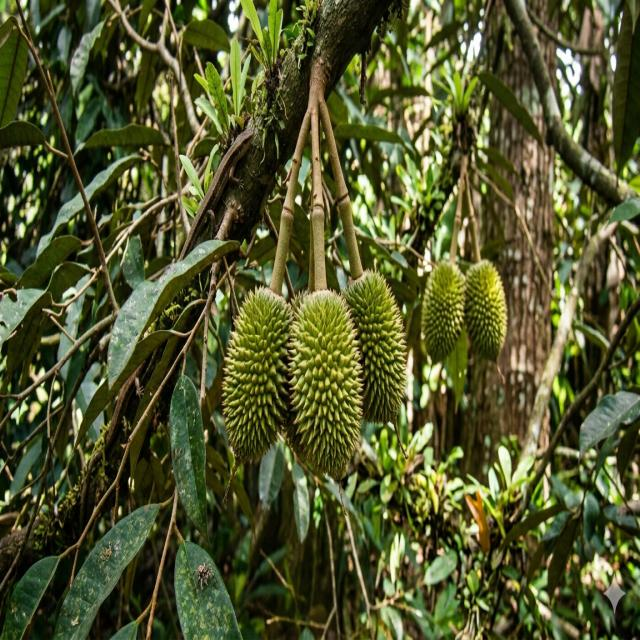immature: (284, 286, 365, 481), (220, 283, 295, 468), (341, 267, 409, 430), (421, 258, 467, 359), (463, 258, 508, 358)
